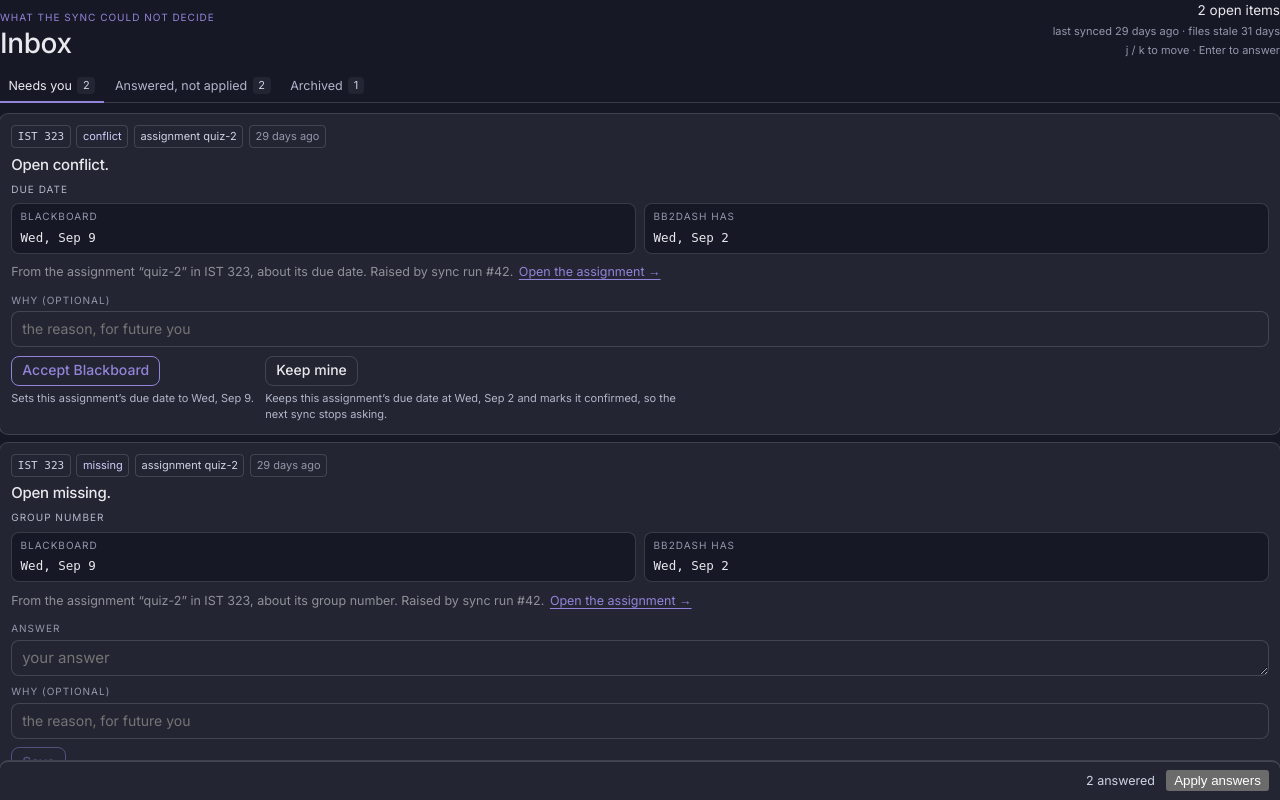
Test: Inbox — R3-3 review queue › filters to archived rows under Archived
The width and height of the screenshot is (1280, 800).
Click the tab "Archived 1" at (327, 86), box [282, 70, 372, 103]
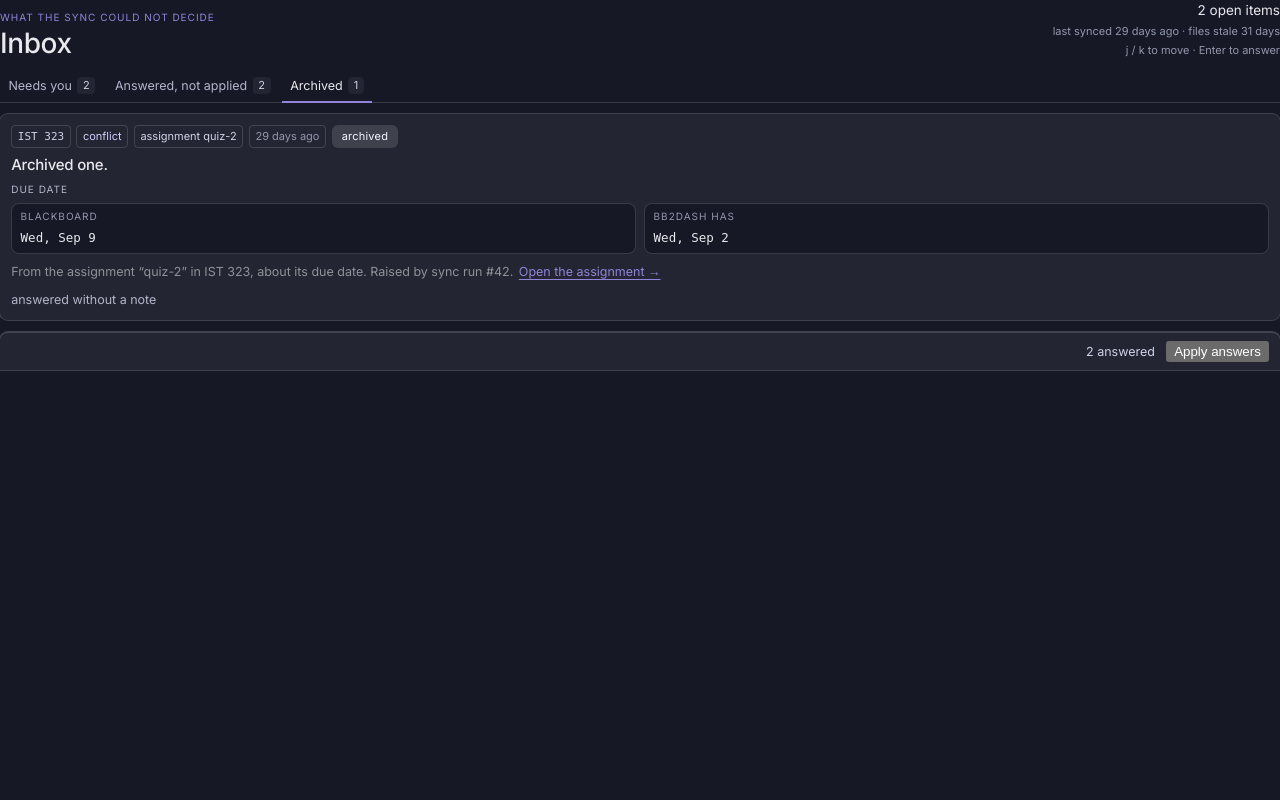
Now the heading "Archived one." is shown, box [11, 155, 108, 174]
